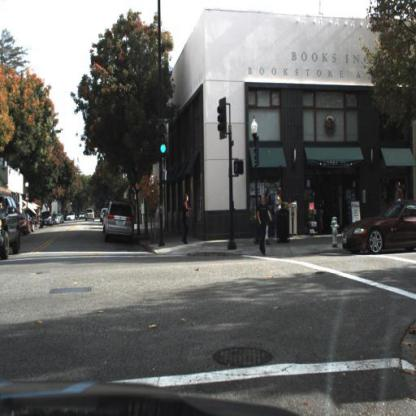car: (341, 197, 416, 259), (341, 203, 416, 257), (1, 194, 29, 261), (102, 197, 141, 244), (37, 211, 52, 229), (18, 215, 29, 236), (86, 209, 96, 222)
pedestrian: (272, 186, 287, 243), (255, 192, 269, 251), (180, 193, 194, 245), (392, 177, 402, 204), (394, 180, 404, 201)
trafficLight-Green: (155, 118, 165, 153)
